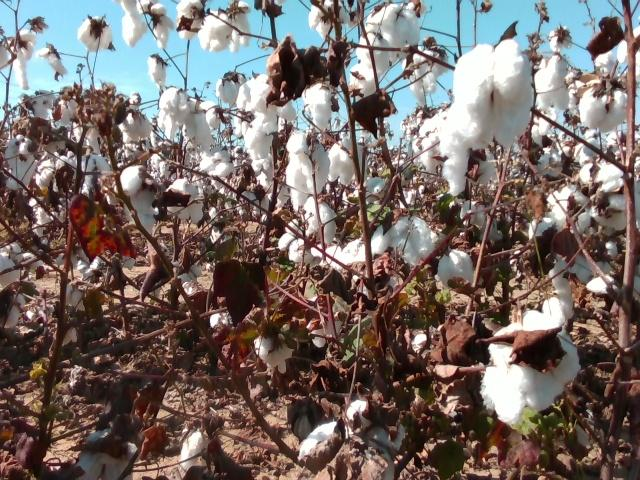cotton_ready: (444, 38, 535, 152), (482, 322, 582, 424), (549, 160, 640, 235), (298, 398, 397, 465), (311, 216, 435, 266), (236, 72, 299, 161), (356, 2, 418, 65), (523, 257, 578, 323), (568, 77, 630, 129), (74, 431, 138, 480), (159, 87, 211, 146), (286, 129, 329, 197), (404, 47, 450, 109), (119, 162, 159, 232), (412, 109, 452, 175), (350, 36, 390, 98), (198, 8, 250, 55), (444, 150, 498, 195), (326, 137, 370, 187), (535, 52, 572, 111), (303, 82, 339, 132), (255, 327, 292, 375), (165, 179, 204, 222), (309, 0, 353, 38), (279, 219, 315, 265), (437, 248, 476, 289), (179, 422, 212, 469), (77, 18, 115, 51), (177, 0, 203, 40)
